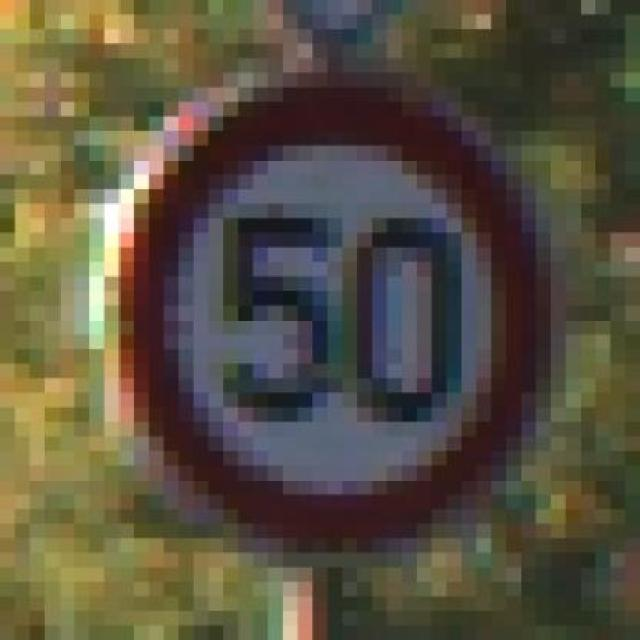forb_speed_over_50: (121, 83, 536, 539)
